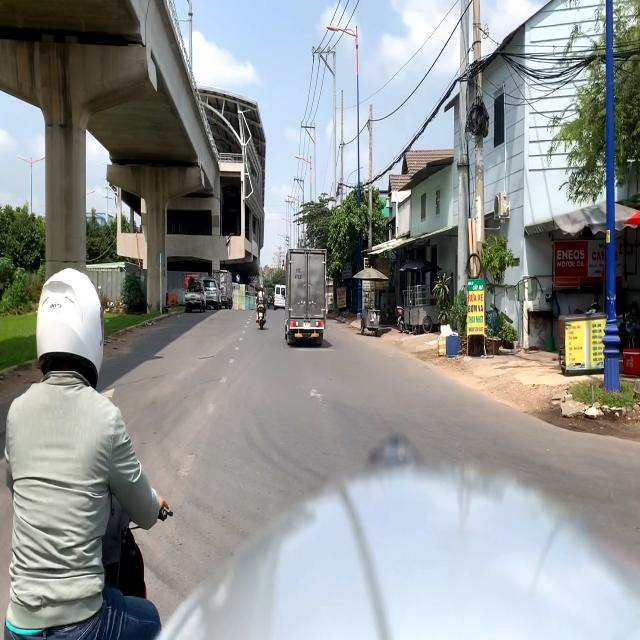R.302a: (236, 274, 240, 282)
